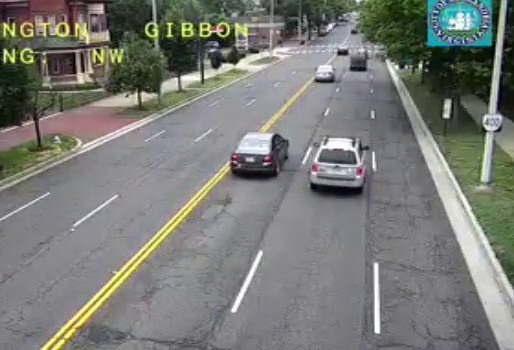car: (309, 137, 366, 189), (230, 133, 290, 173), (314, 65, 335, 82)
